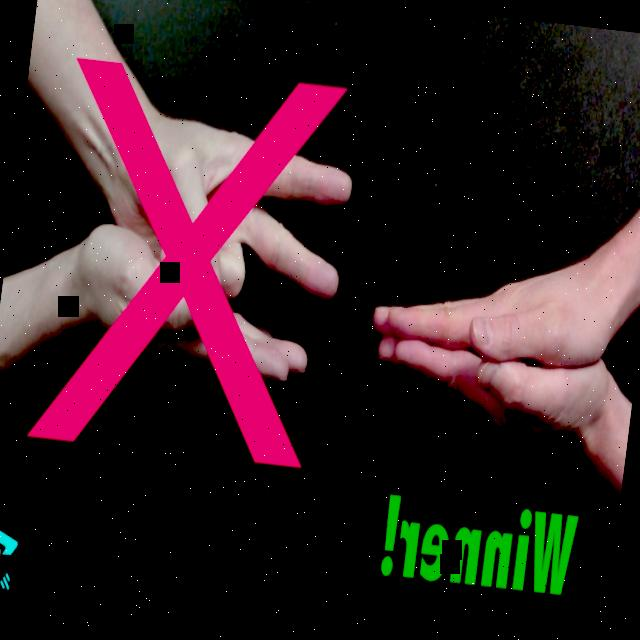Paper: (367, 232, 621, 372)
Scissors: (97, 103, 359, 307)
